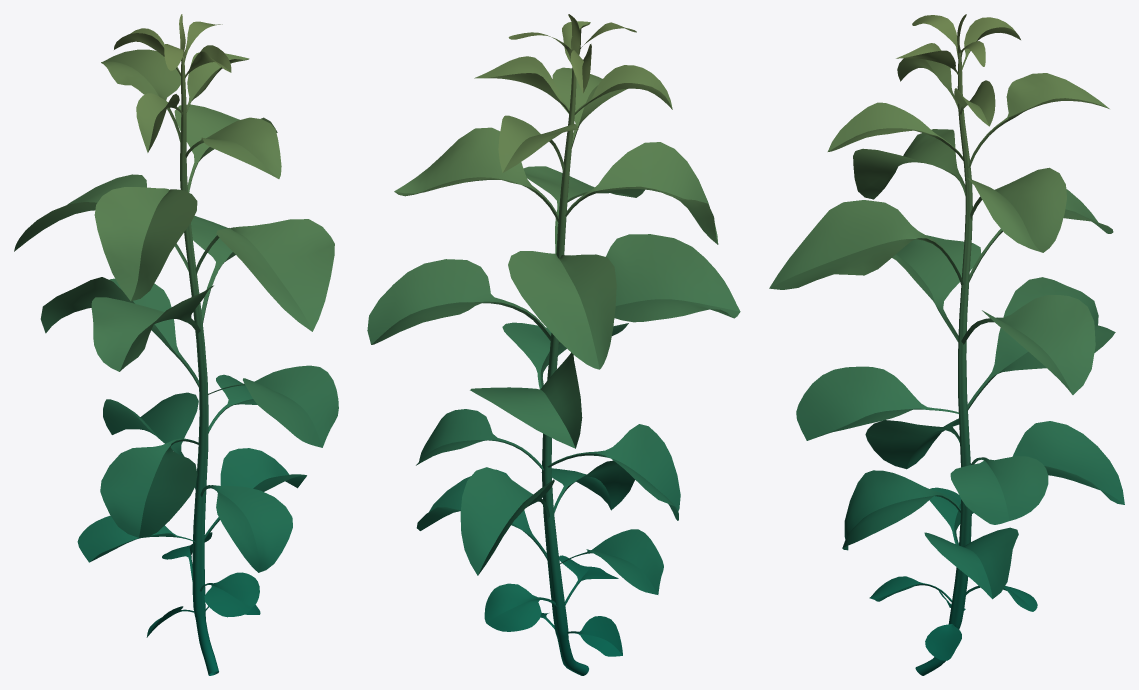
File: nettle_plant_5.glb
3 views of the same model, side by side, from view 1: azimuth 30°, elevation 25°; view 2: azimuth 150°, elevation 25°; view 3: azimuth 270°, elevation 25° (orthographic). The views are drawn at different scales.
Visible parts, largest first — view 1: nettle_plant_tall_b_LOD0; view 2: nettle_plant_tall_b_LOD0; view 3: nettle_plant_tall_b_LOD0.
Boxes of the visible parts, x1,y1,x2,y2 form: nettle_plant_tall_b_LOD0: (14,14,338,675); nettle_plant_tall_b_LOD0: (367,14,740,675); nettle_plant_tall_b_LOD0: (769,14,1124,675).
Bounding box in the file's own units: 0.0823 × 0.1927 × 0.0947.
